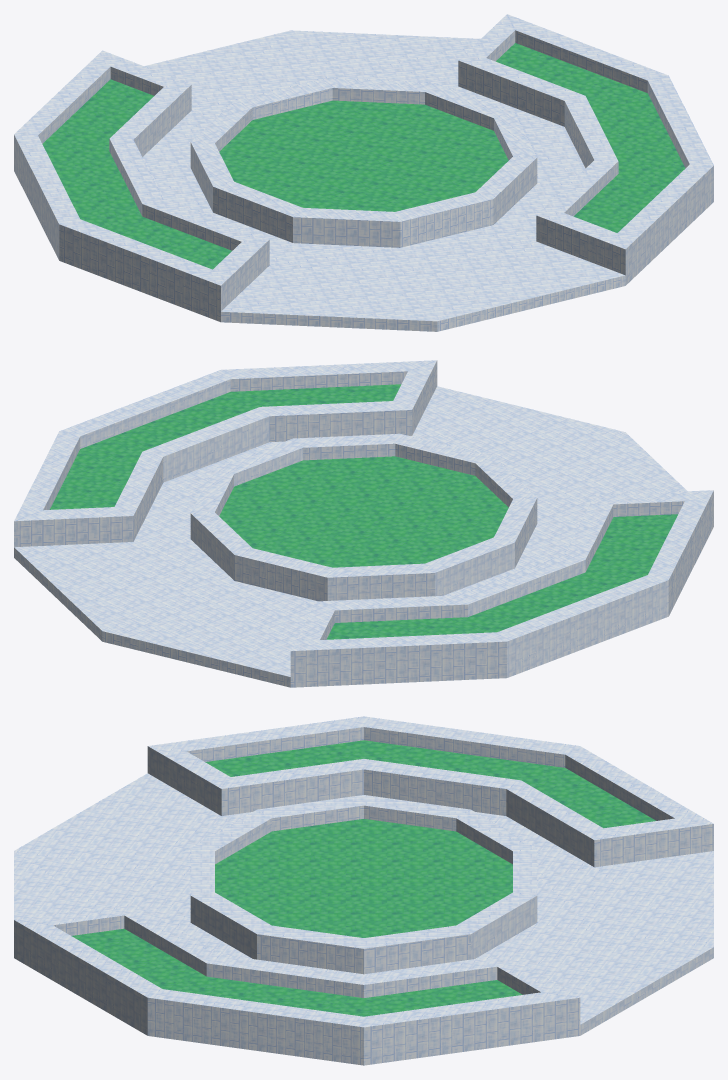
File: CirclePlanter.fbx
3 views of the same model, one above another, from view 1: azimuth 30°, elevation 25°; view 2: azimuth 150°, elevation 25°; view 3: azimuth 270°, elevation 25° (orthographic). The views are drawn at different scales.
Visible parts, largest first — view 1: Cylinder__8_.005; view 2: Cylinder__8_.005; view 3: Cylinder__8_.005.
Boxes of the visible parts, x1,y1,x2,y2 form: Cylinder__8_.005: (14, 14, 713, 331); Cylinder__8_.005: (14, 360, 713, 687); Cylinder__8_.005: (14, 716, 713, 1065).
Bounding box in the file's own units: 1783 × 102 × 1696.
